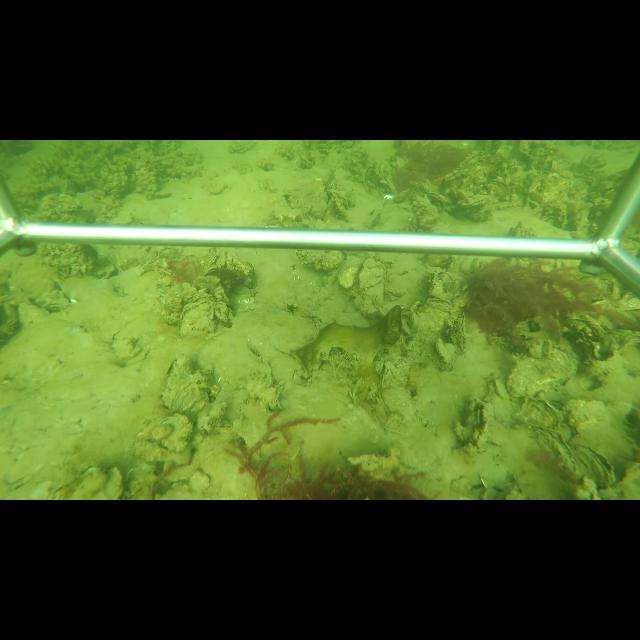Oyster-Closed: (506, 343, 576, 397), (160, 352, 208, 416), (178, 286, 216, 338), (518, 394, 564, 430), (157, 409, 193, 449), (358, 257, 386, 307), (377, 304, 403, 344), (337, 254, 361, 288), (433, 337, 455, 363), (365, 165, 381, 189), (462, 198, 486, 210), (374, 303, 391, 317), (407, 312, 419, 328)
Oyster-Open: (572, 440, 616, 488), (471, 404, 492, 448), (426, 190, 446, 206)
